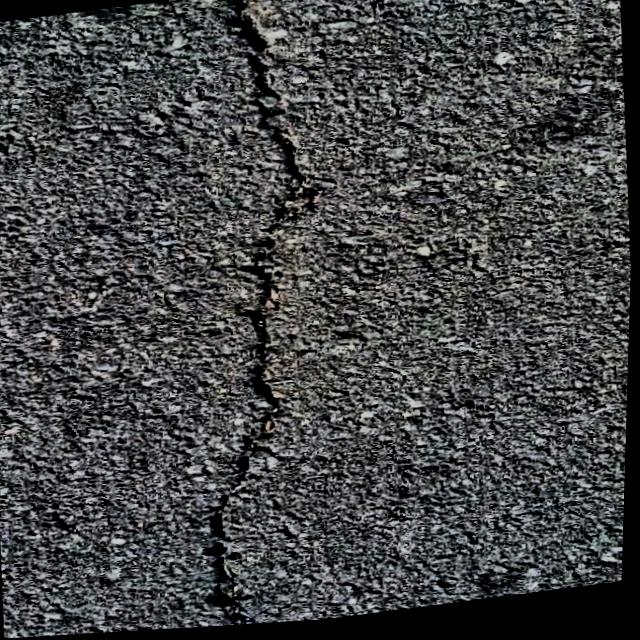cracks: (226, 0, 318, 455), (209, 458, 263, 578), (213, 572, 257, 629)
